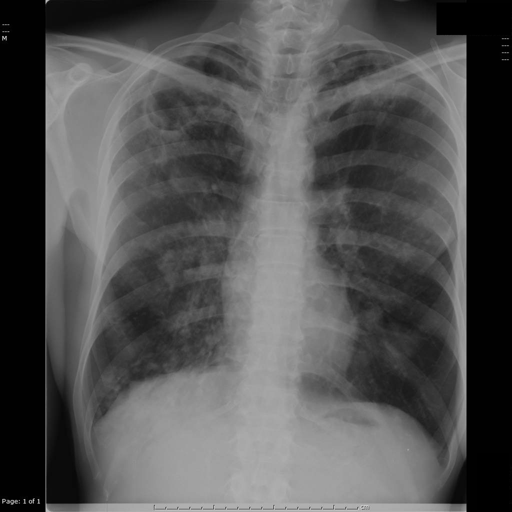TB: (149, 184, 218, 297), (132, 93, 212, 141)
